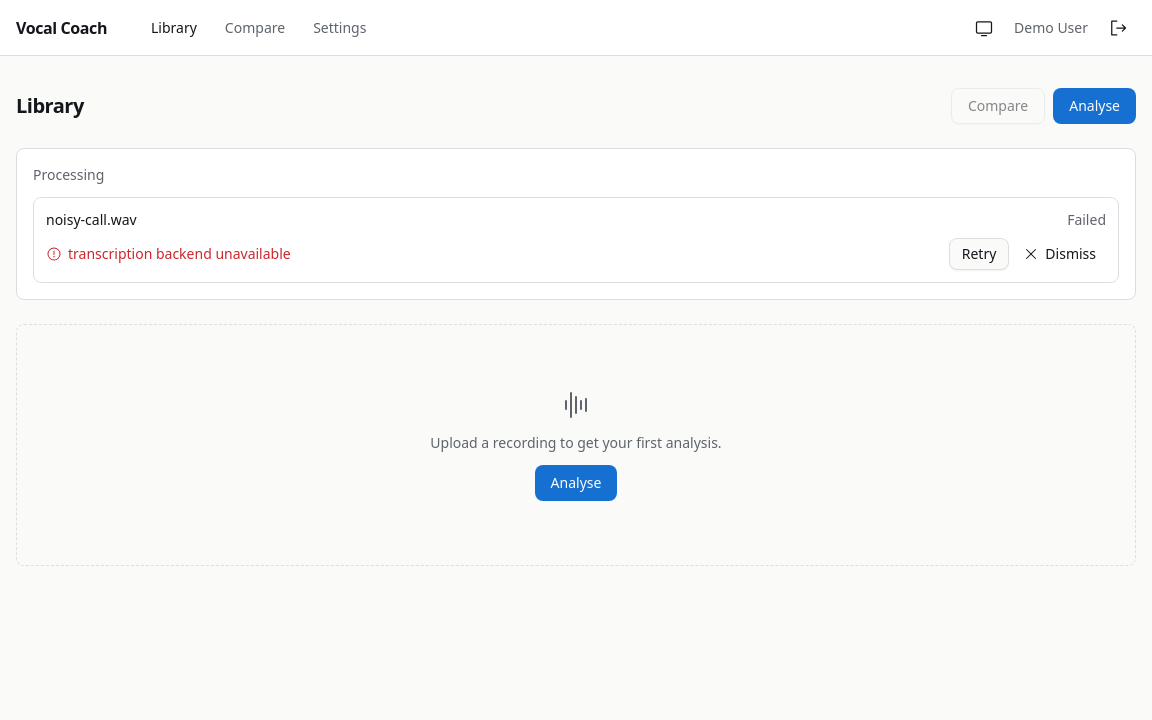
dismissing a retried row's finished job deletes both the new job and the old failed job it replaced
The width and height of the screenshot is (1152, 720).
Check: the text "transcription backend unavailable" is shown, box [46,244,291,264]
Click the button "Retry" at (979, 254), box [949,238,1009,270]
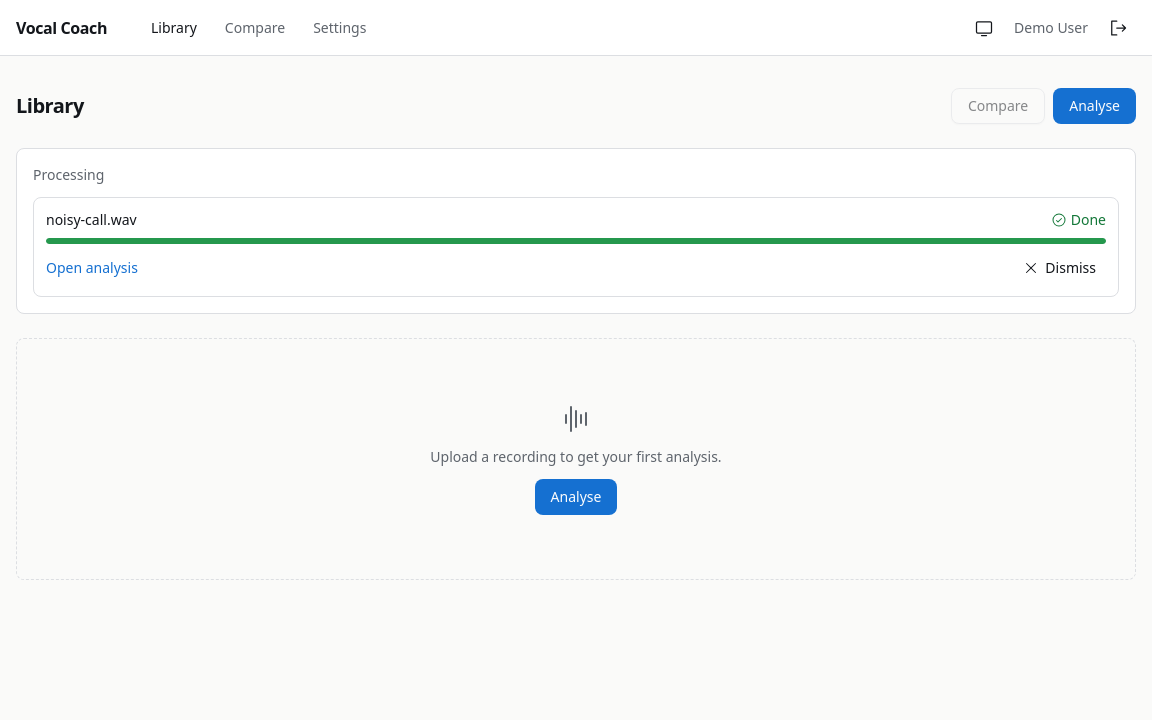
Check: the text "Done" is shown, box [1051,210,1106,230]
Click the button "Dismiss" at (1060, 268), box [1013,252,1106,284]
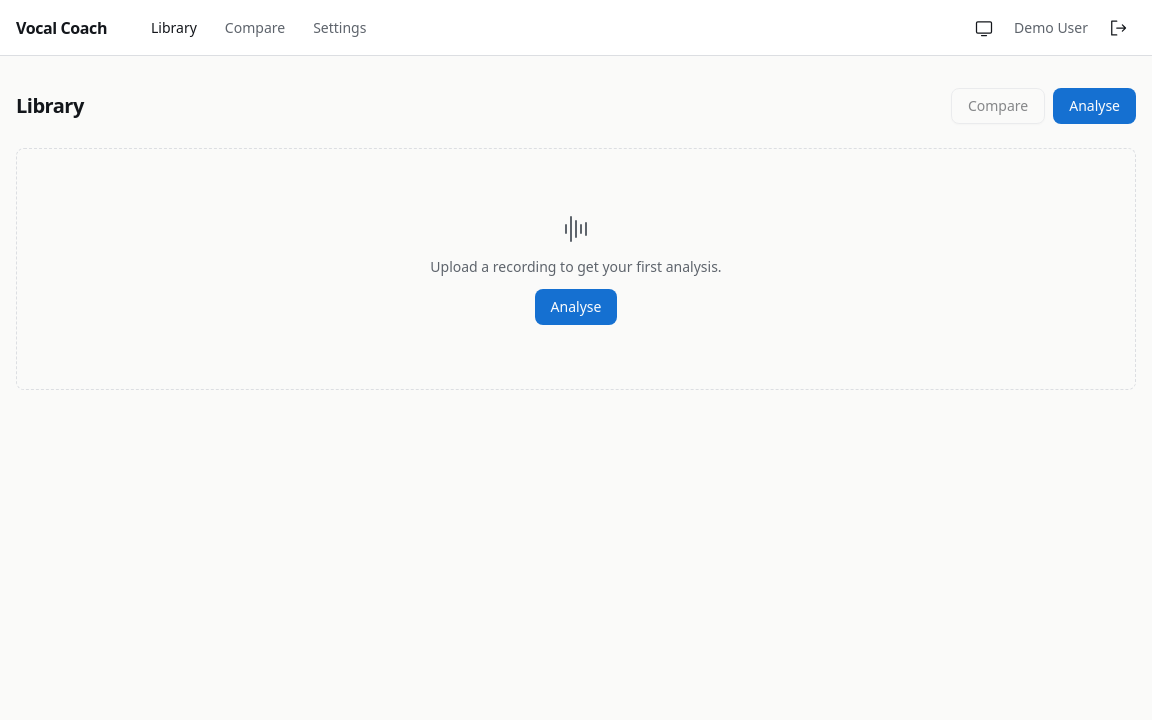
Check: the text "noisy-call.wav" is gone
